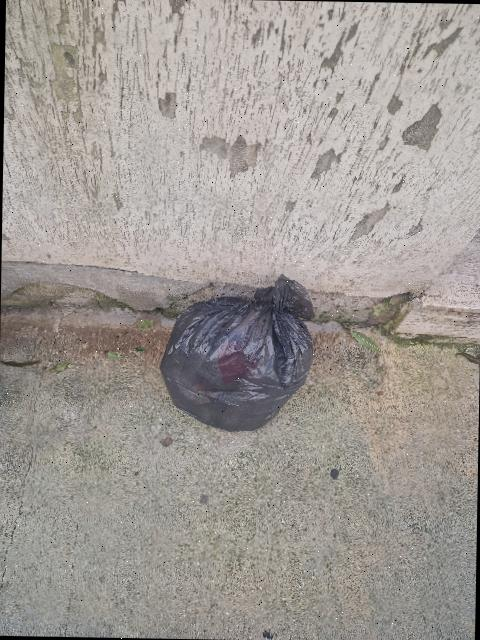Recyclable -Grey-: (160, 277, 313, 431)
